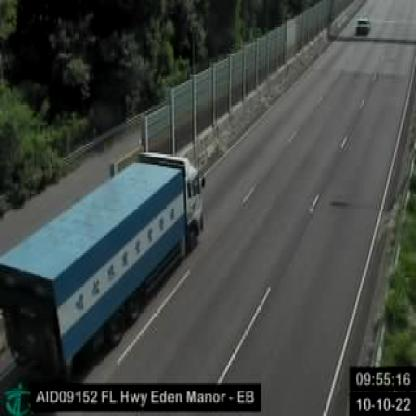Car: (354, 17, 371, 37)
Truck: (0, 152, 208, 377)
